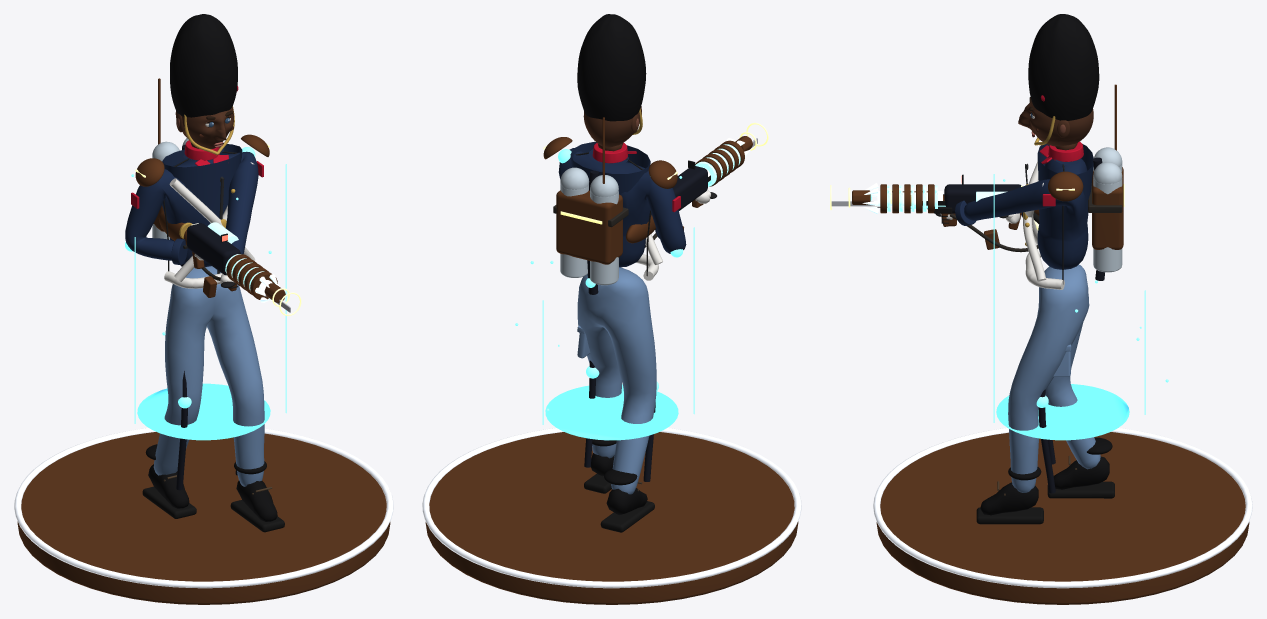
The model's file is frost_kbh.glb.
3 views of the same model, side by side, from view 1: azimuth 30°, elevation 25°; view 2: azimuth 150°, elevation 25°; view 3: azimuth 270°, elevation 25° (orthographic).
Parts seen in each view (by area): view 1: fod_net, menneske_net, hoved_net, op4.001_net, vaaben_net, op1.001_net, op3.001_net, op4_net, op2_net; view 2: fod_net, menneske_net, hoved_net, op3.001_net, op4.001_net, vaaben_net, op4_net, op1.001_net; view 3: fod_net, menneske_net, hoved_net, op4.001_net, vaaben_net, op3.001_net, op1.001_net, op4_net, op2_net.
Part boxes in pixels (x1,y1,x2,y2): fod_net: [14, 428, 393, 604]; menneske_net: [125, 138, 284, 532]; hoved_net: [170, 14, 238, 154]; op4.001_net: [131, 164, 286, 440]; vaaben_net: [158, 212, 280, 302]; op1.001_net: [164, 162, 255, 288]; op3.001_net: [135, 78, 269, 231]; op4_net: [125, 144, 255, 490]; op2_net: [179, 222, 290, 312]; fod_net: [422, 428, 801, 604]; menneske_net: [553, 141, 716, 532]; hoved_net: [577, 14, 646, 147]; op3.001_net: [543, 117, 677, 264]; op4.001_net: [515, 176, 694, 440]; vaaben_net: [626, 138, 750, 243]; op4_net: [558, 149, 683, 481]; op1.001_net: [636, 234, 662, 280]; fod_net: [873, 427, 1252, 604]; menneske_net: [935, 141, 1122, 524]; hoved_net: [1018, 14, 1099, 146]; op4.001_net: [993, 174, 1168, 440]; vaaben_net: [862, 183, 1039, 229]; op3.001_net: [1048, 84, 1124, 249]; op1.001_net: [1023, 161, 1064, 289]; op4_net: [1036, 157, 1104, 493]; op2_net: [831, 174, 999, 249].
Bounding box in the file's own units: 1.94 × 2.88 × 2.16.
